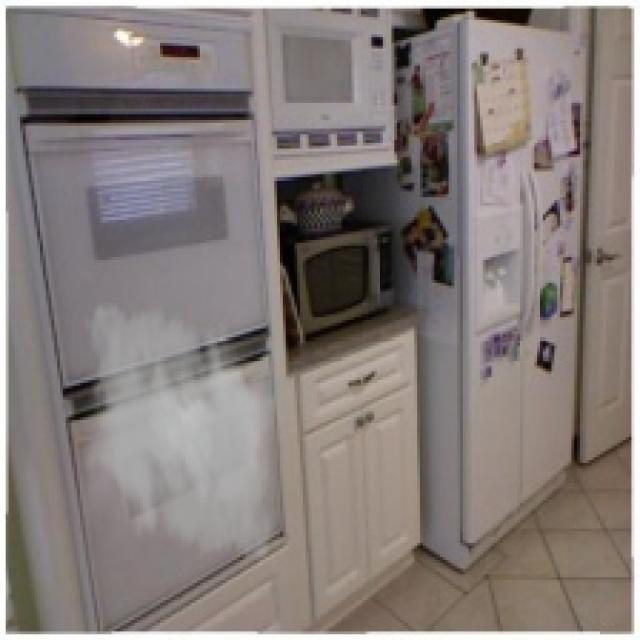smoke: (69, 292, 288, 572)
